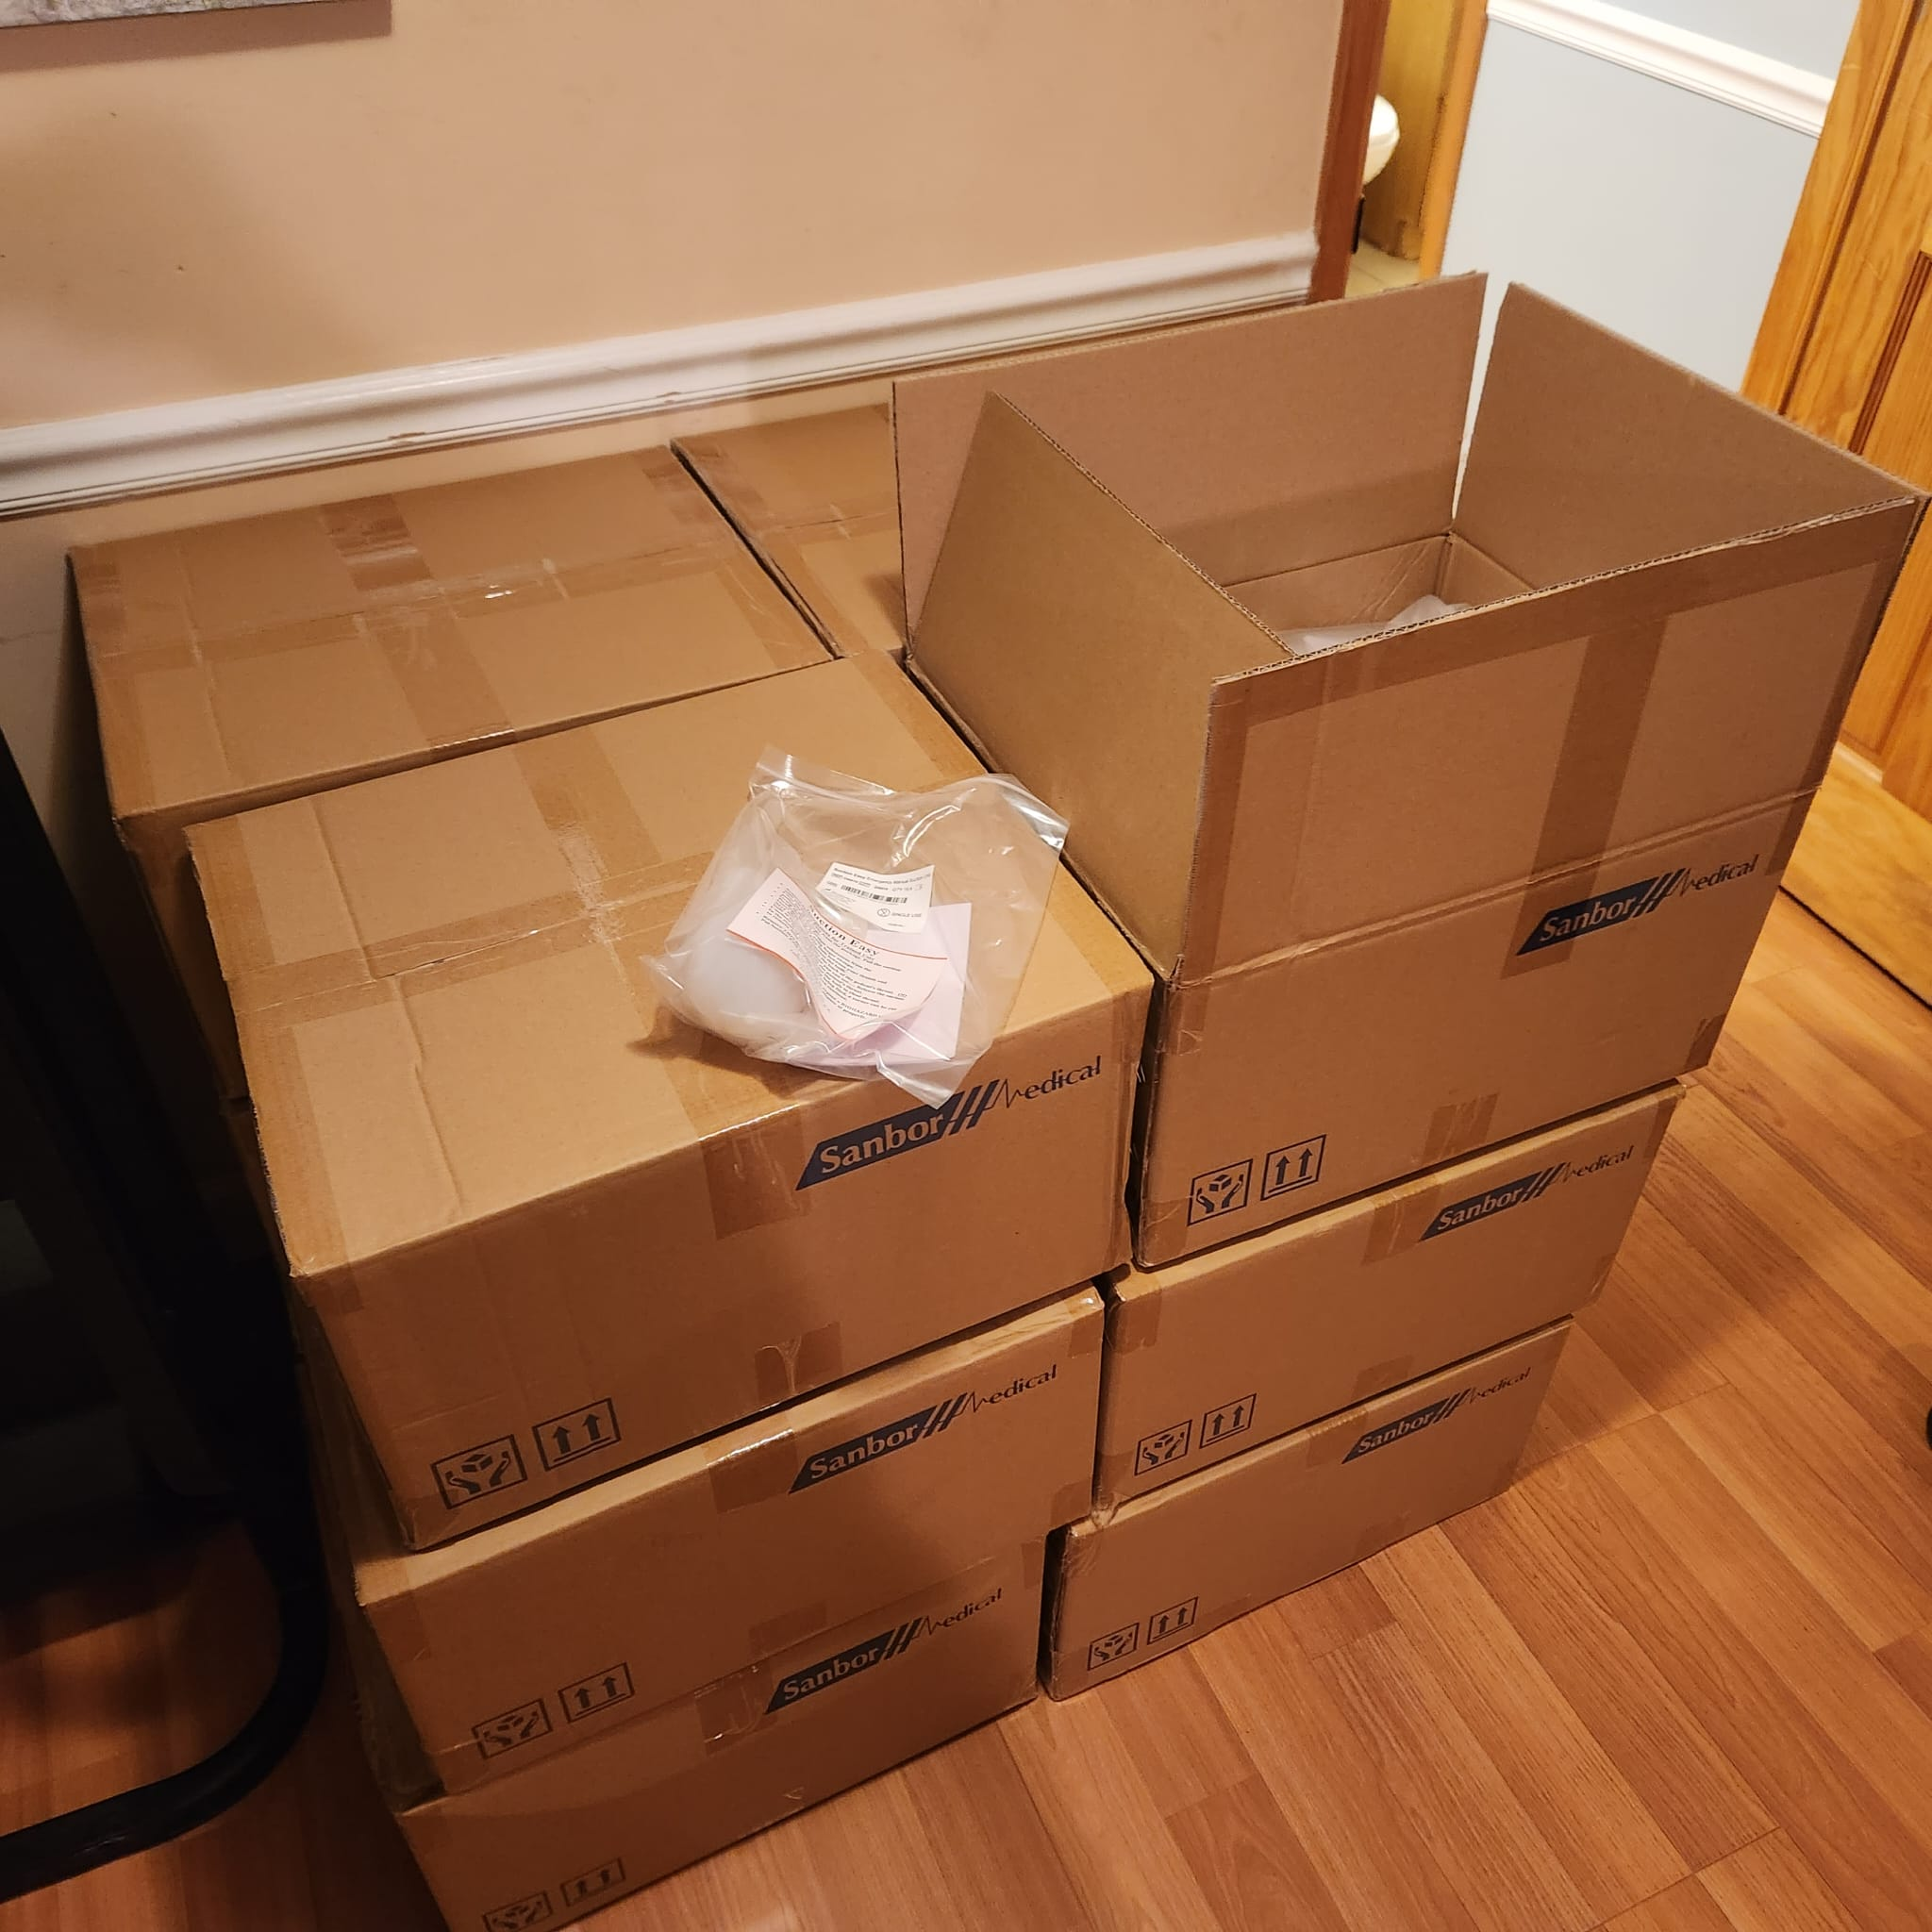box: (202, 640, 1139, 1470), (931, 433, 1863, 1159), (329, 1368, 1111, 1626), (343, 1626, 1097, 1893), (60, 502, 800, 763), (1072, 1180, 1683, 1415), (1053, 1442, 1629, 1628)
